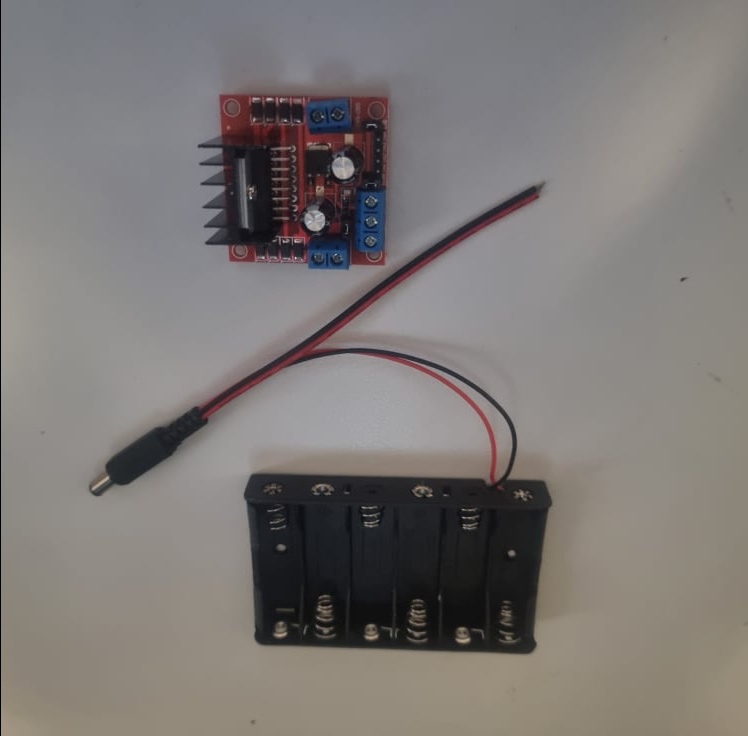BATTERY BOX: (242, 476, 553, 652)
MOTOR: (197, 96, 388, 270)
